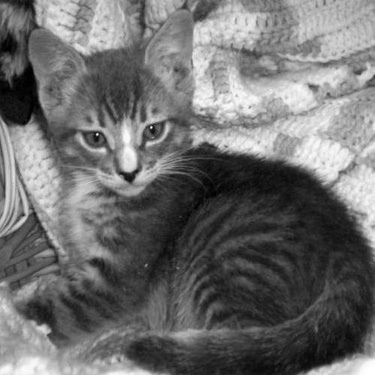cat: (12, 13, 373, 373)
